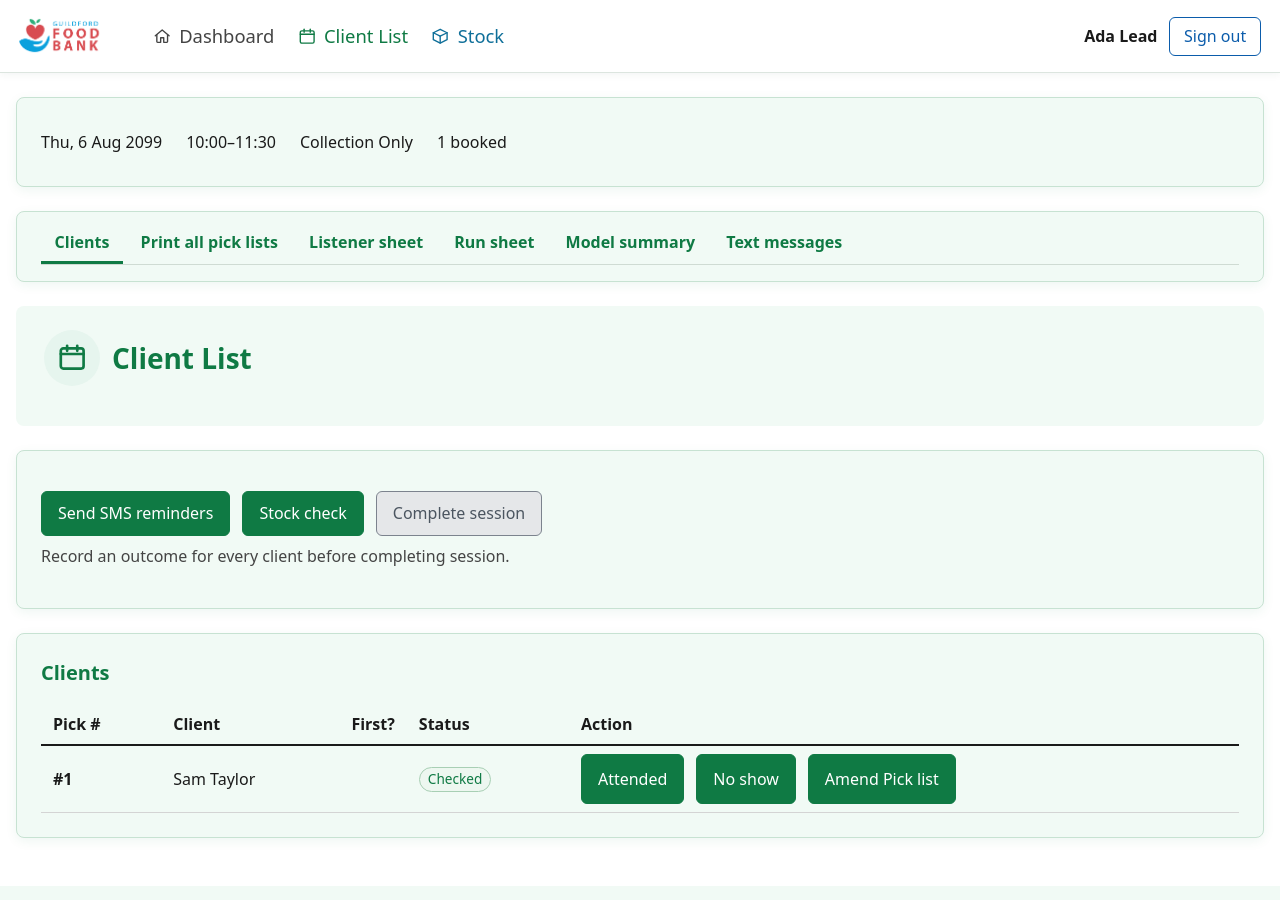
Test: the session stock check › shows what earlier sessions the same day take first, so a shortfall beyond needed minus in stock is explained
The image size is (1280, 900).
Step 1. Click the button "Stock check" → x=303, y=513, box [242,491,364,536]
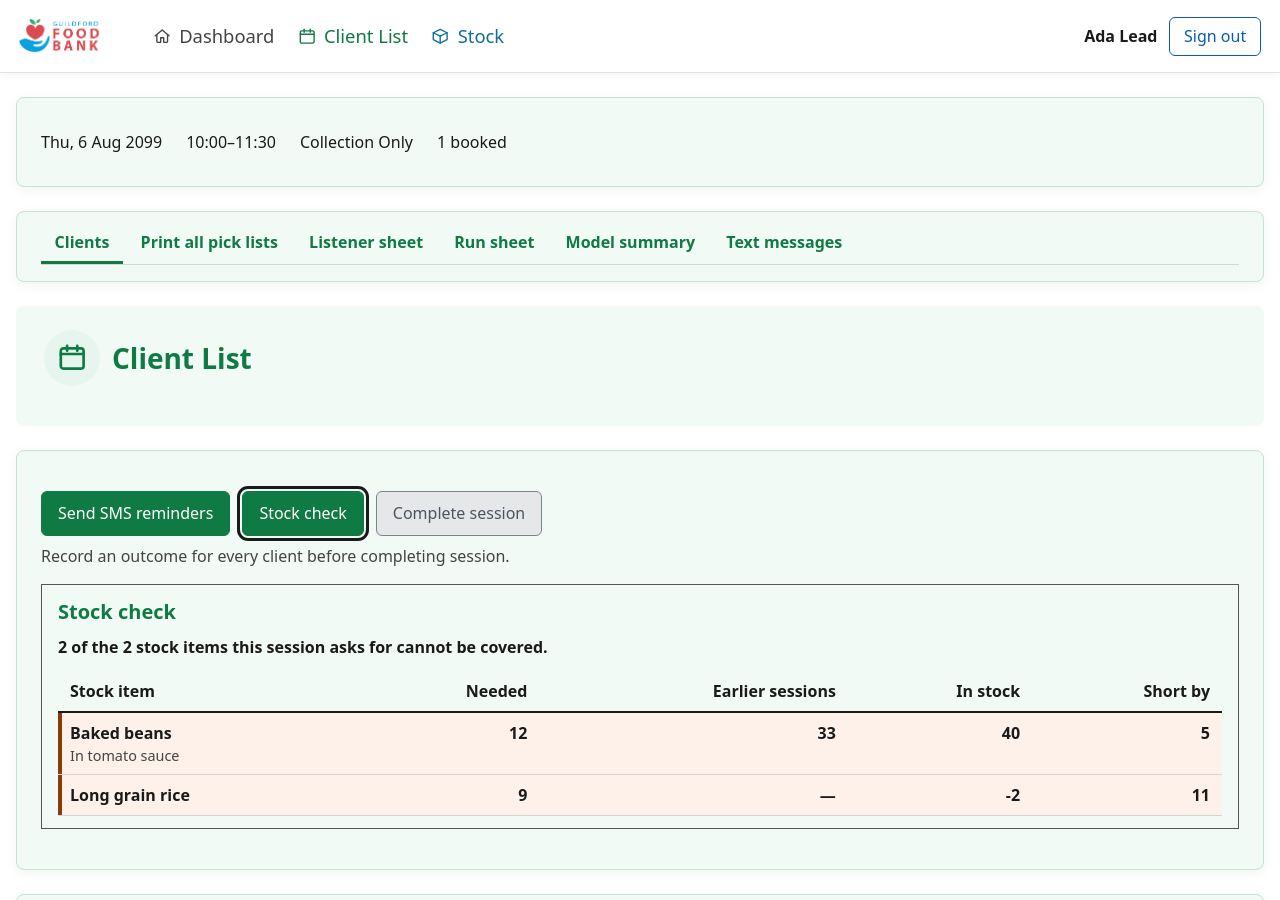
Now the column headings read "Stock item", "Needed", "Earlier sessions", "In stock", "Short by", in this order, box [58,671,360,712]; [360,671,539,712]; [539,671,848,712]; [848,671,1032,712]; [1032,671,1222,712]
